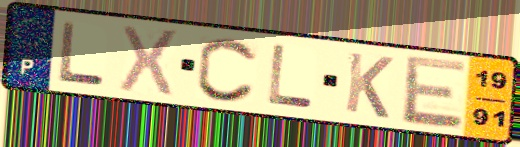C: (194, 35, 261, 105)
E: (401, 53, 469, 131)
K: (342, 49, 396, 121)
L: (56, 19, 108, 88), (266, 42, 317, 112)
X: (116, 23, 182, 100)
